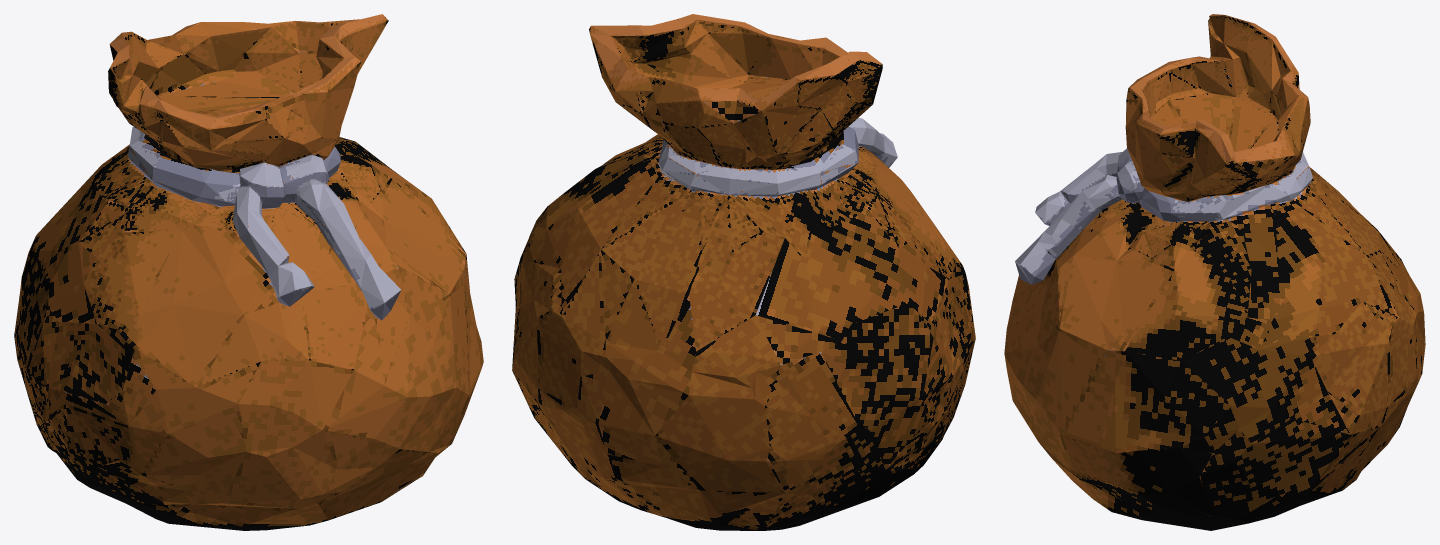
The picture shows the model from 3 angles, left to right: view 1: azimuth 30°, elevation 25°; view 2: azimuth 150°, elevation 25°; view 3: azimuth 270°, elevation 25°; orthographic projection. The views are drawn at different scales.
Visible parts, largest first — view 1: OBJ080; view 2: OBJ080; view 3: OBJ080.
Part boxes in pixels (<box>): OBJ080: <box>14,14,483,530</box>; OBJ080: <box>512,14,975,530</box>; OBJ080: <box>1004,14,1425,530</box>.
Bounding box in the file's own units: 0.2669 × 0.2923 × 0.2611.
Materials: 1 (1 with a texture image).
